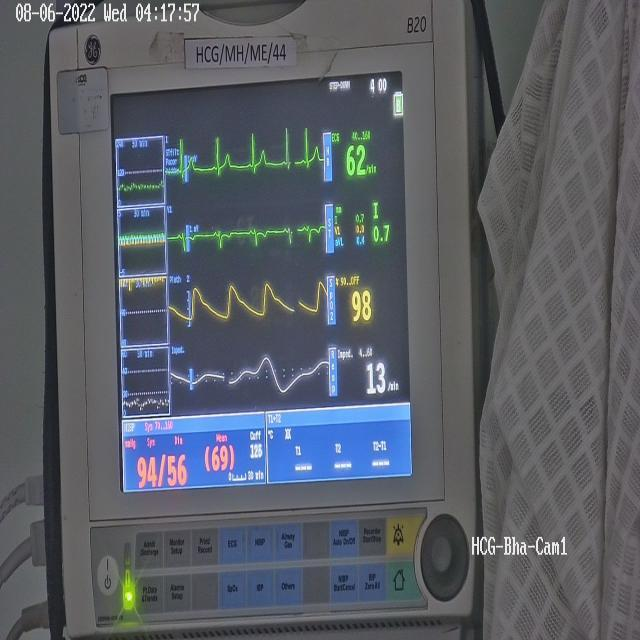Monitor: (41, 1, 484, 638)
